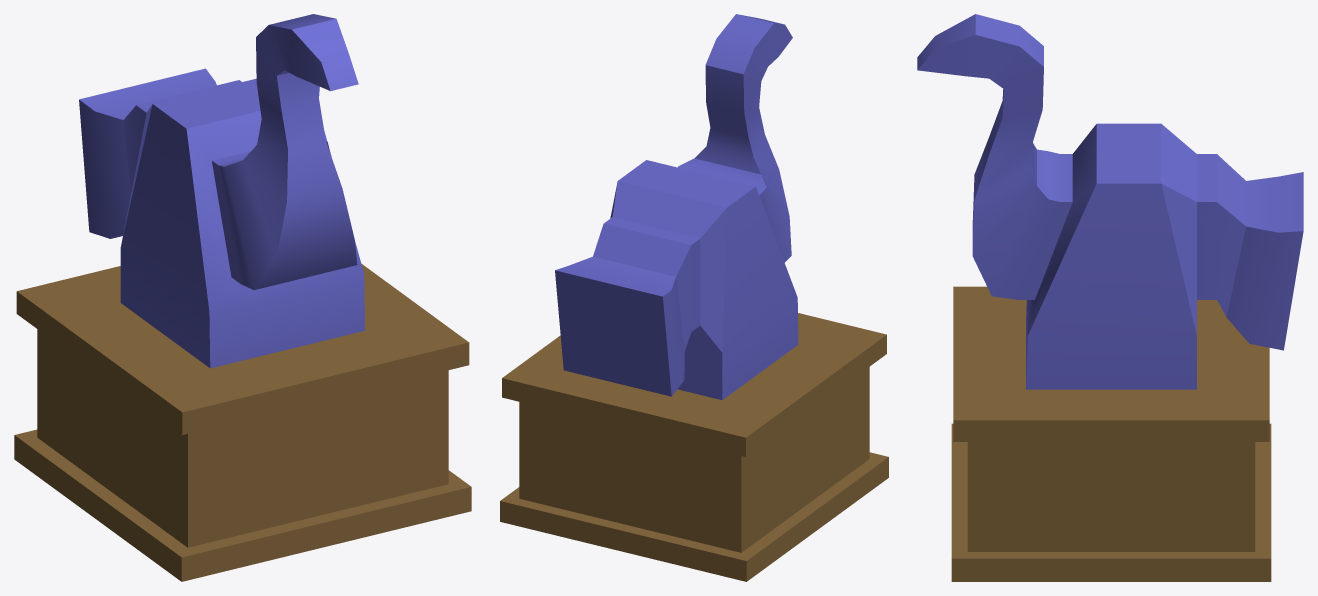
The model's file is cavalo.fbx.
The picture shows the model from 3 angles, left to right: view 1: azimuth 30°, elevation 25°; view 2: azimuth 150°, elevation 25°; view 3: azimuth 270°, elevation 25°; orthographic projection. The views are drawn at different scales.
Visible parts, largest first — view 1: Plane; view 2: Plane; view 3: Plane.
Part boxes in pixels (bbox=[...]): Plane: bbox=[14, 14, 471, 581]; Plane: bbox=[500, 14, 888, 581]; Plane: bbox=[917, 14, 1303, 581].
Size of the model in its own units: 400 by 677 by 484.
